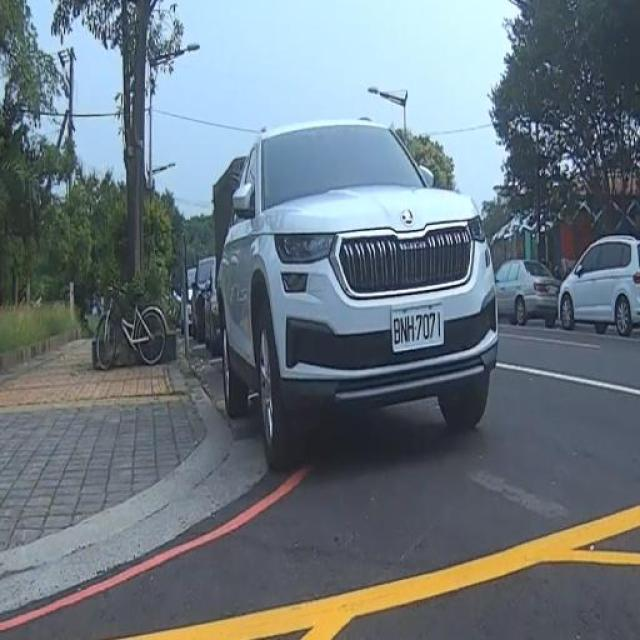Legalparking: (484, 224, 640, 350)
illegalparking: (215, 80, 500, 530)
